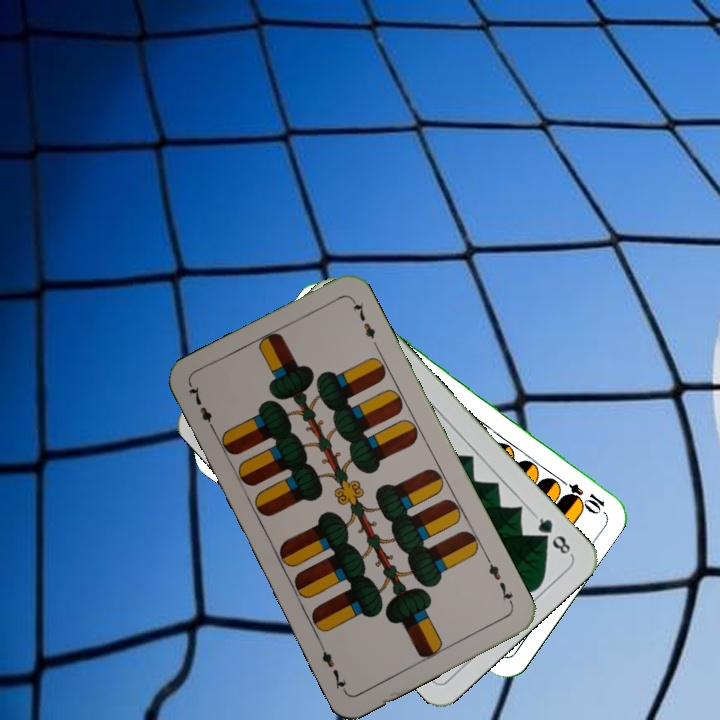E10: (554, 473, 608, 514)
E7: (482, 554, 516, 609), (185, 381, 219, 436)
G8: (530, 511, 575, 558)
